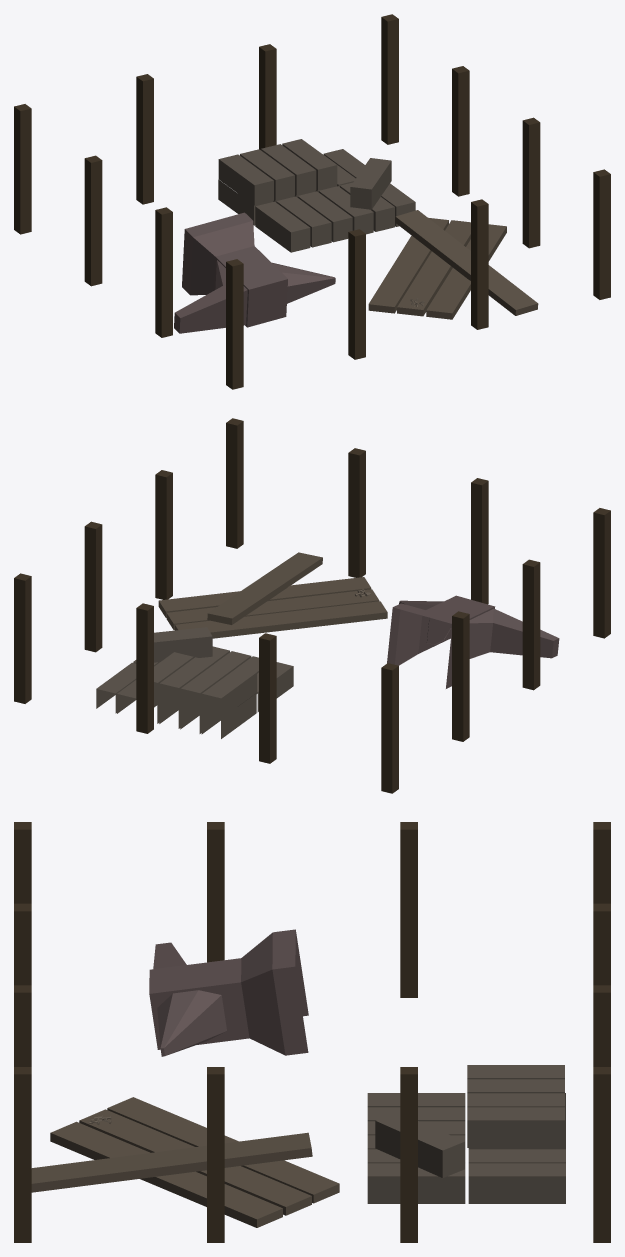
The model's file is construccionFroja.fbx.
3 renders of one model, top to bottom at view 1: azimuth 30°, elevation 25°; view 2: azimuth 150°, elevation 25°; view 3: azimuth 270°, elevation 25°, orthographic. The views are drawn at different scales.
Visible parts, largest first — view 1: pCube37; view 2: pCube37; view 3: pCube37.
Part boxes in pixels (x1,y1,x2,y2): pCube37: [14, 14, 610, 389]; pCube37: [14, 418, 610, 793]; pCube37: [14, 822, 610, 1242].
Bounding box in the file's own units: 1.02 × 0.3269 × 1.02.
